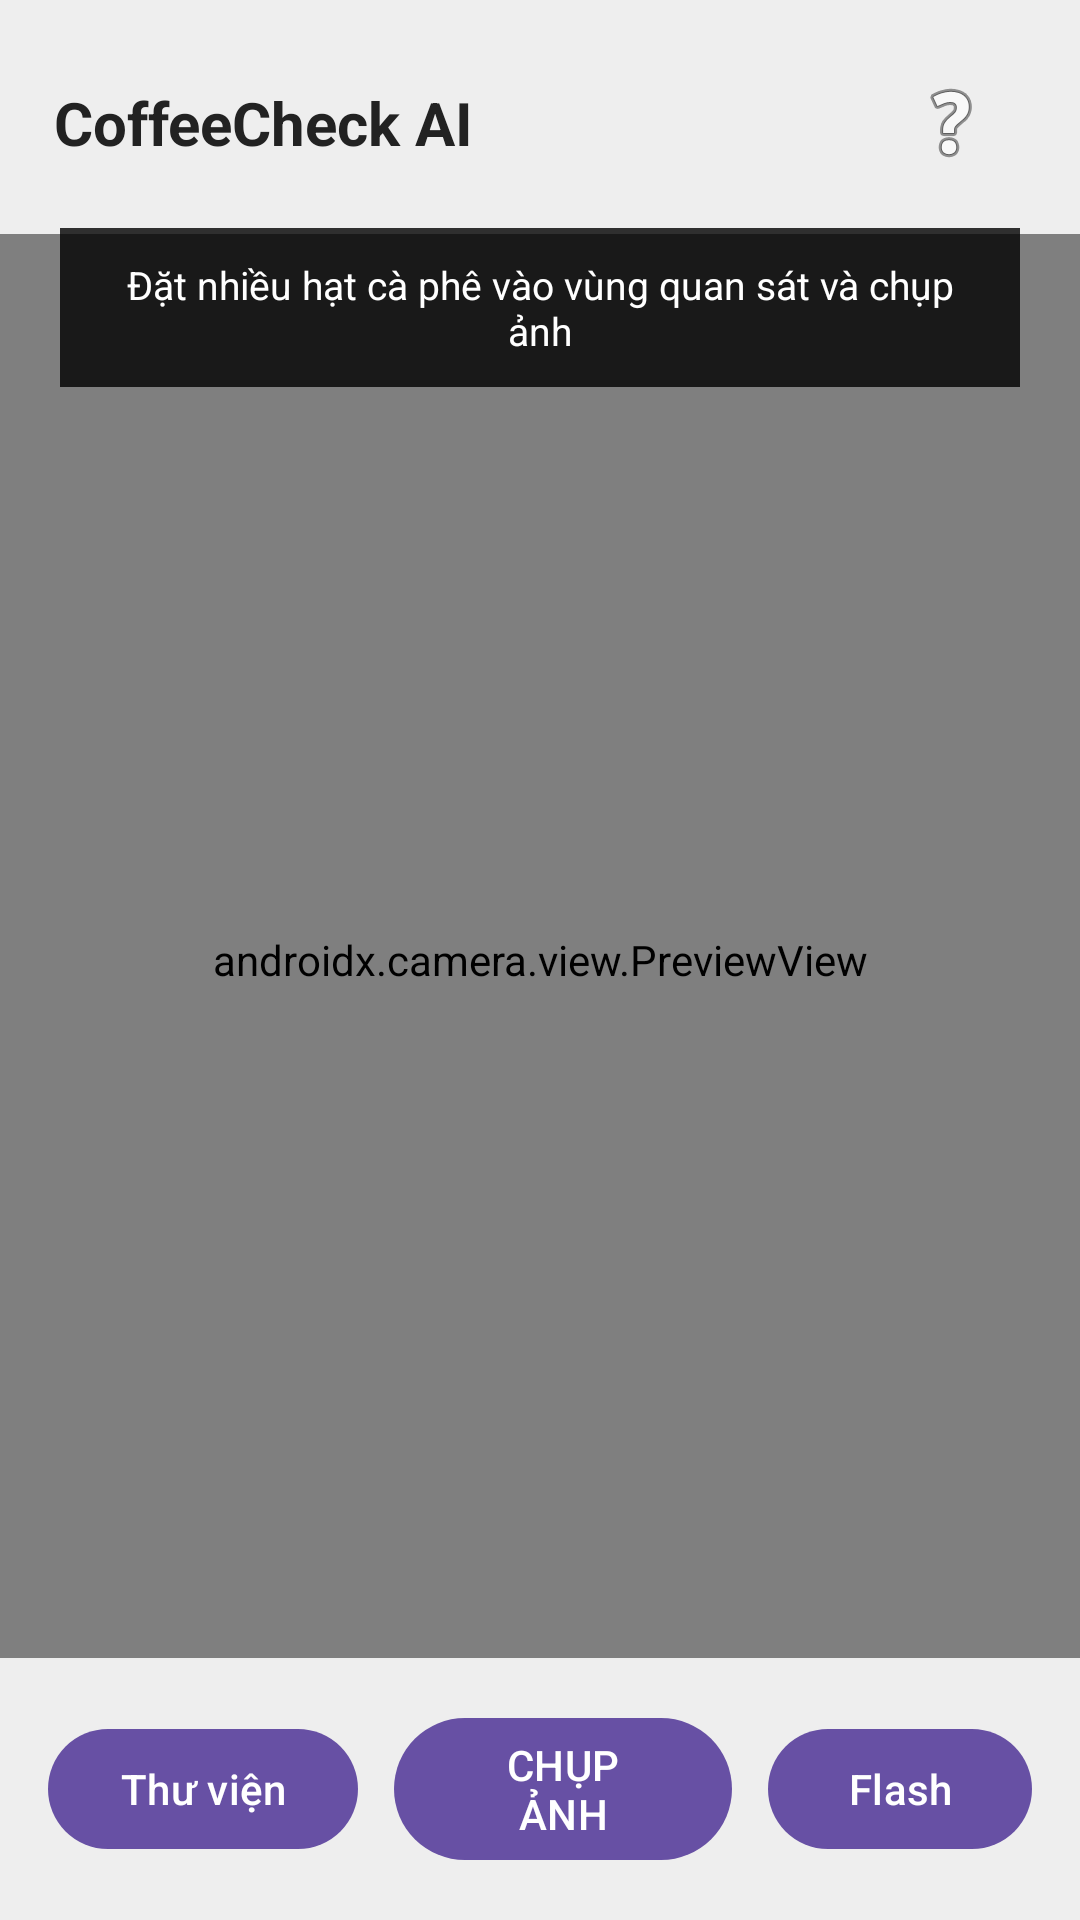

Locate icon controls on the screen. Image size 1080w x 1920h, boxes as (x1, y1, x2, y2).
Trợ giúp: (930, 89, 972, 157)
